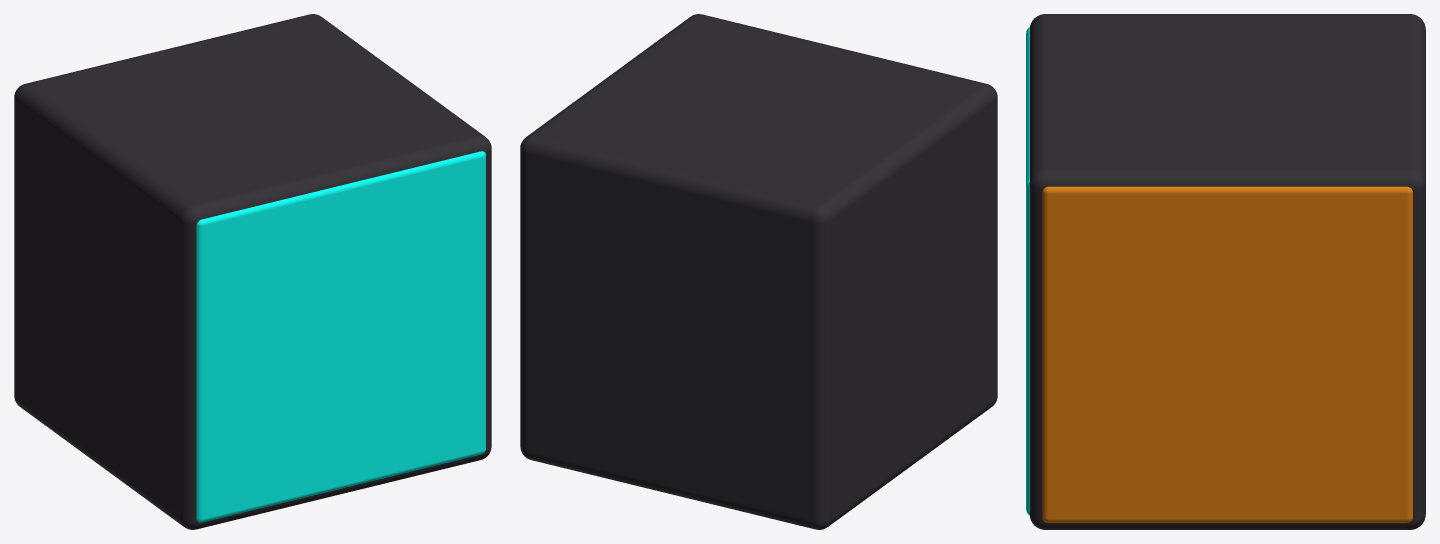
Rendered from obEdge.obj.
3 views of the same model, side by side, from view 1: azimuth 30°, elevation 25°; view 2: azimuth 150°, elevation 25°; view 3: azimuth 270°, elevation 25° (orthographic). The views are drawn at different scales.
Visible parts, largest first — view 1: 000_Base, 002_blue_(face); view 2: 000_Base; view 3: 001_orange, 000_Base, 002_blue_(face).
Boxes of the visible parts, <box> form: 000_Base: <box>14,14,491,529</box>; 002_blue_(face): <box>196,151,485,522</box>; 000_Base: <box>520,14,997,529</box>; 001_orange: <box>1042,186,1412,522</box>; 000_Base: <box>1029,14,1425,529</box>; 002_blue_(face): <box>1026,27,1029,514</box>.
Bounding box in the file's own units: 101 × 100 × 101.
